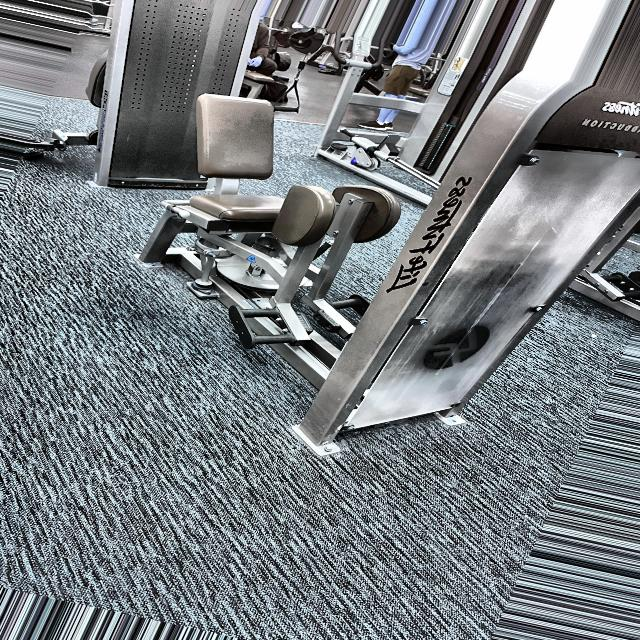hip_adduction_machine: (192, 160, 408, 360)
